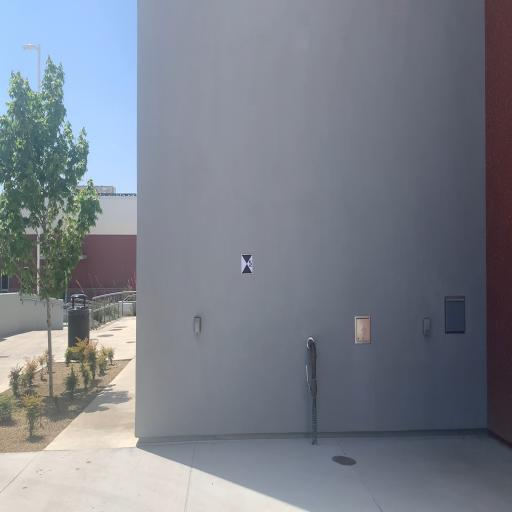target5: (241, 254, 253, 275)
